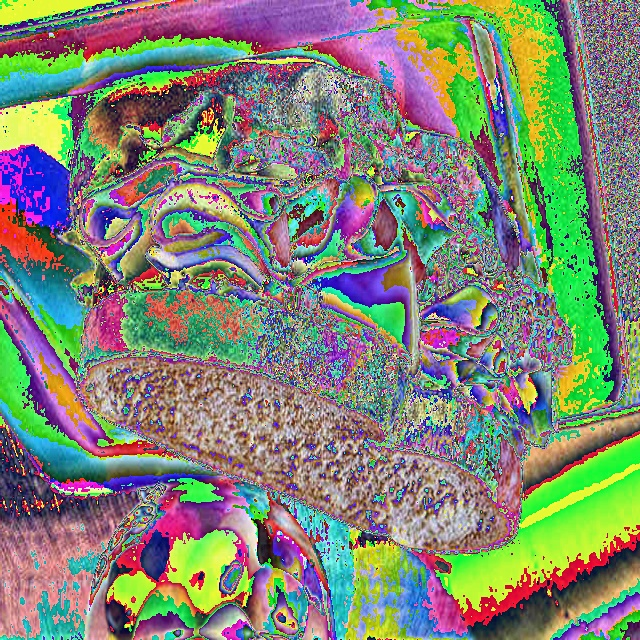background: (58, 63, 574, 556), (105, 140, 329, 639)
